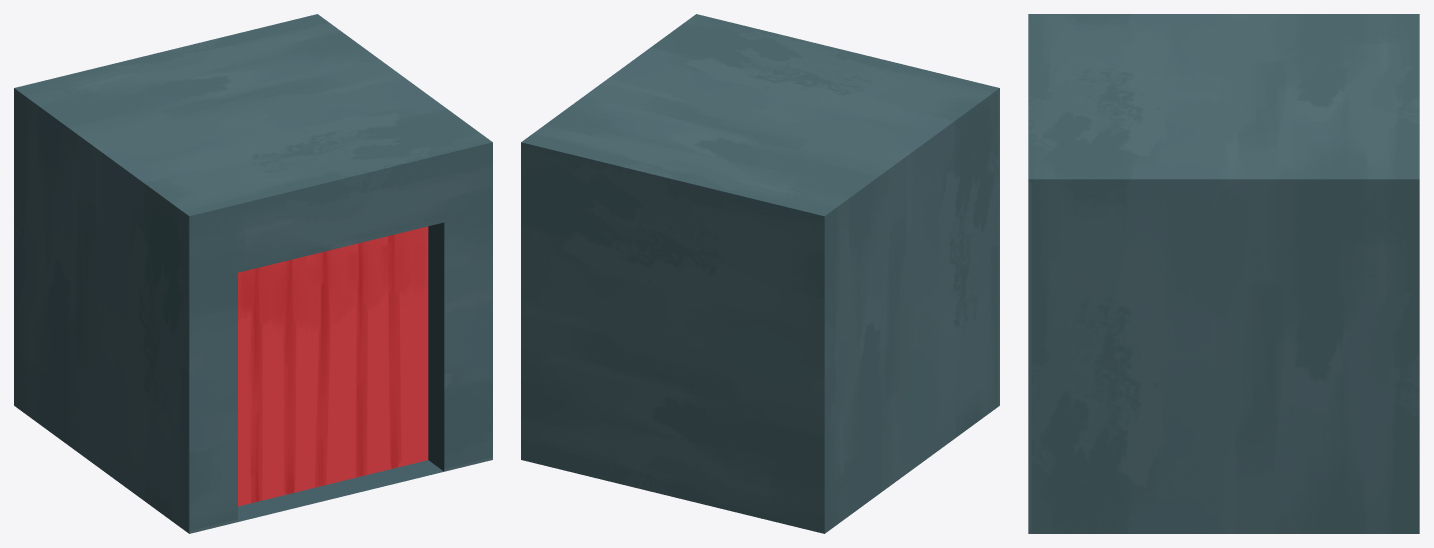
The model's file is m_block_garage.FBX.
3 renders of one model, left to right at view 1: azimuth 30°, elevation 25°; view 2: azimuth 150°, elevation 25°; view 3: azimuth 270°, elevation 25°, orthographic. The views are drawn at different scales.
Visible parts, largest first — view 1: block_garage; view 2: block_garage; view 3: block_garage.
Part boxes in pixels (x1,y1,x2,y2): block_garage: (14, 14, 492, 533); block_garage: (521, 14, 999, 533); block_garage: (1028, 14, 1419, 533).
Size of the model in its own units: 100 by 100 by 100.
